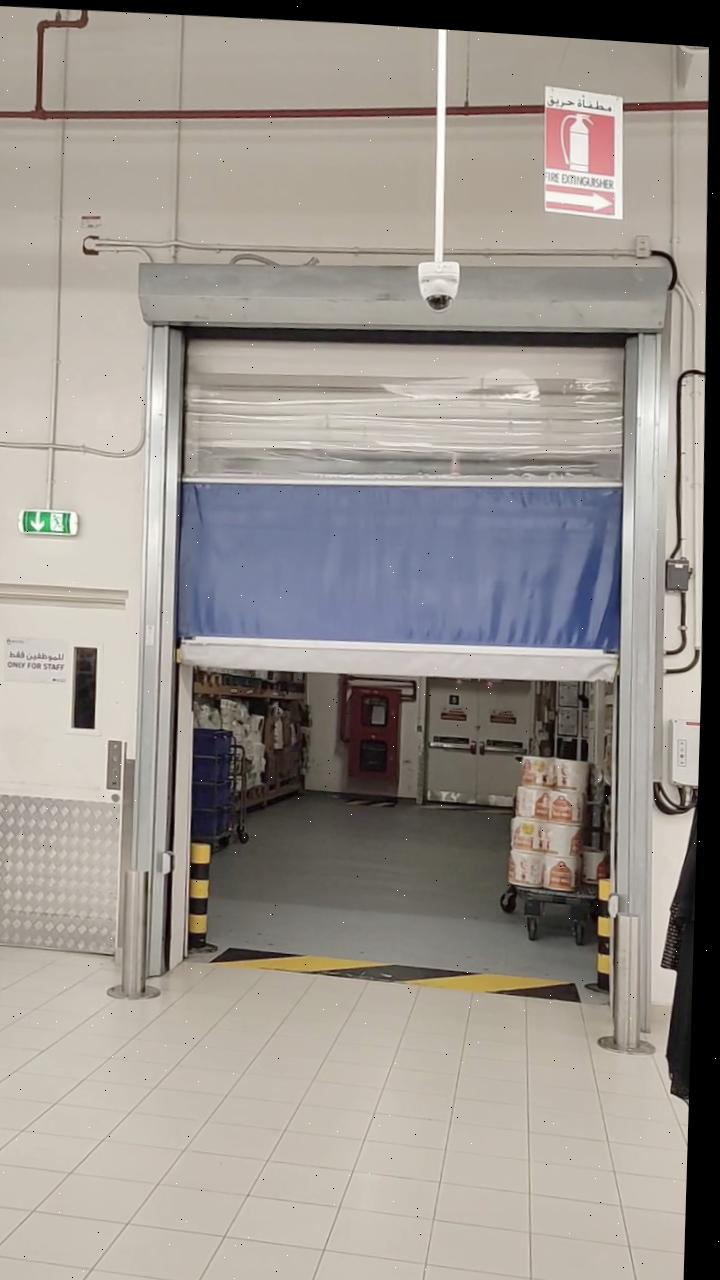Strip: (235, 927, 579, 1002)
